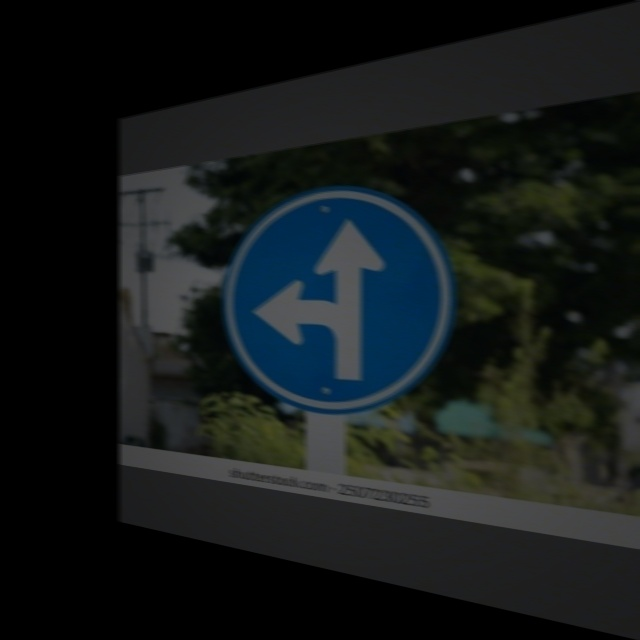Compulsory_Ahead_or_Turn_Left: (220, 176, 451, 421)
